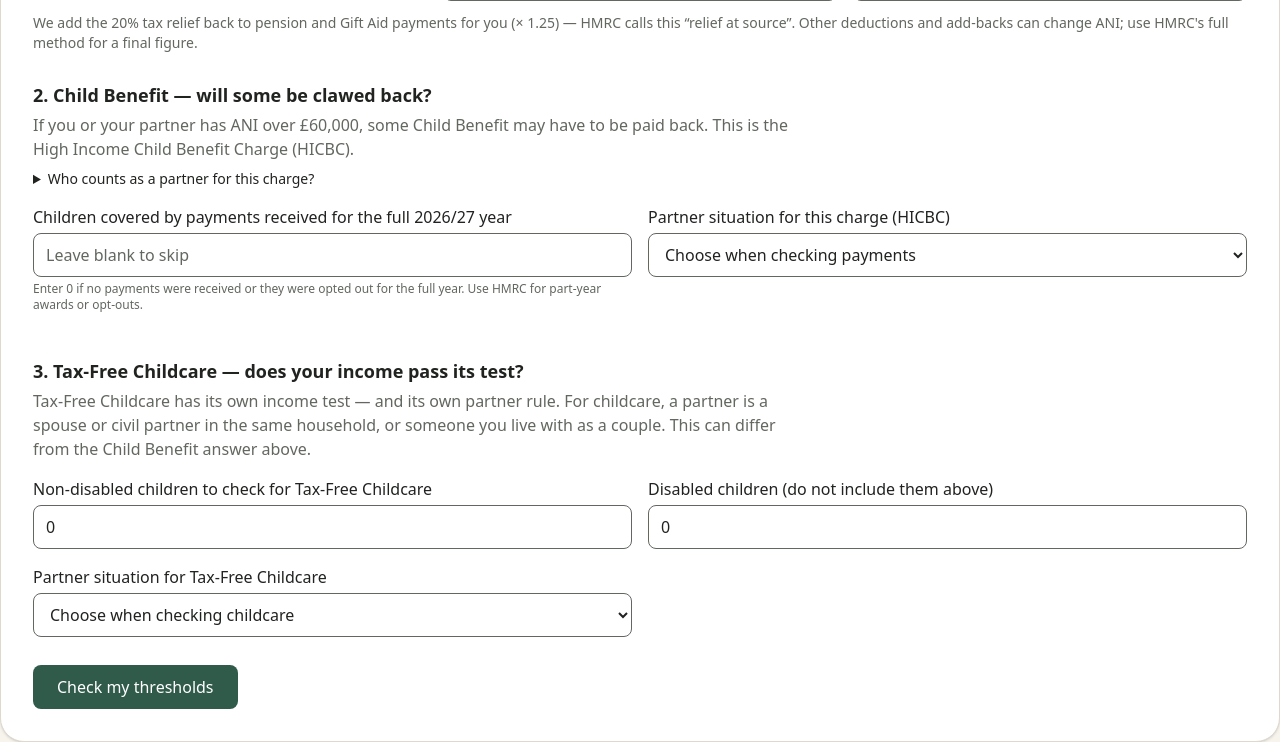
personal ANI threshold check › keeps a blank income unknown
The width and height of the screenshot is (1280, 742).
(page scrolled)
Click the button "Check my thresholds". click: (135, 687)
box: x1=33 y1=665 x2=238 y2=709
(page scrolled)
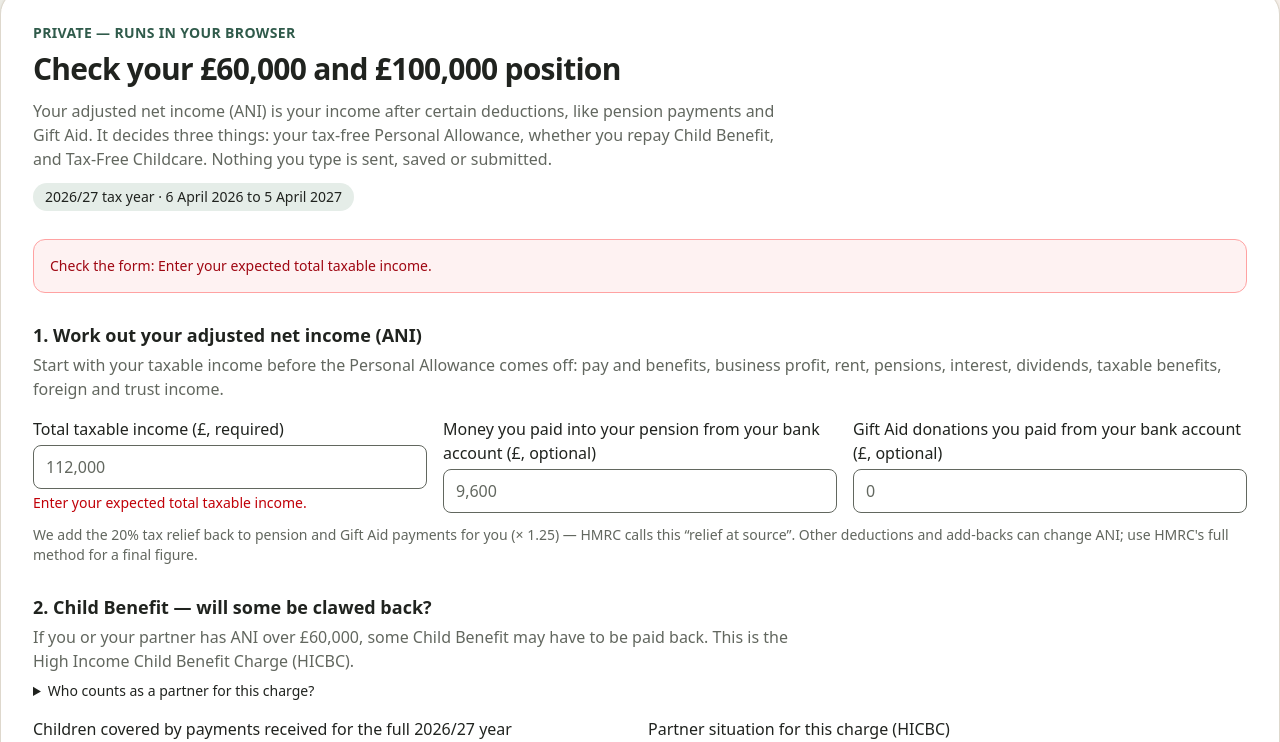
Check: the text "Check the form: Enter your expected total taxable income." is shown, box x1=33 y1=239 x2=1247 y2=293
